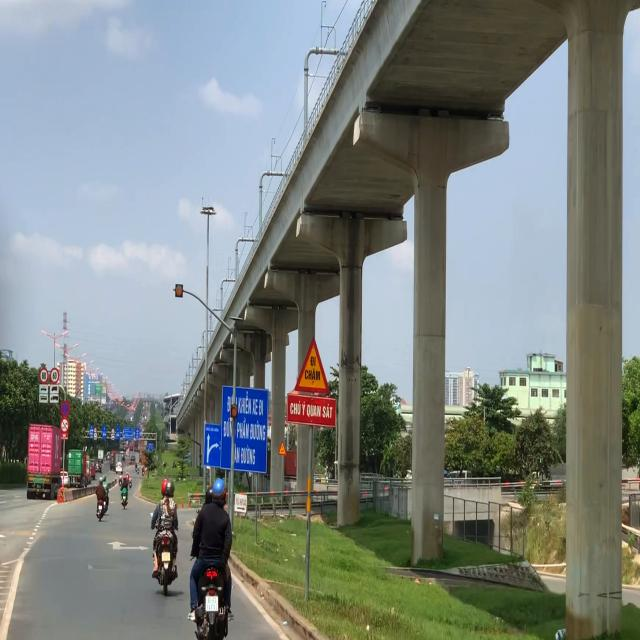Cam dung va do: (60, 400, 70, 417)
Nguy hiem: (294, 335, 330, 397)
Toc do toi da: (50, 367, 60, 384), (40, 367, 49, 384)
